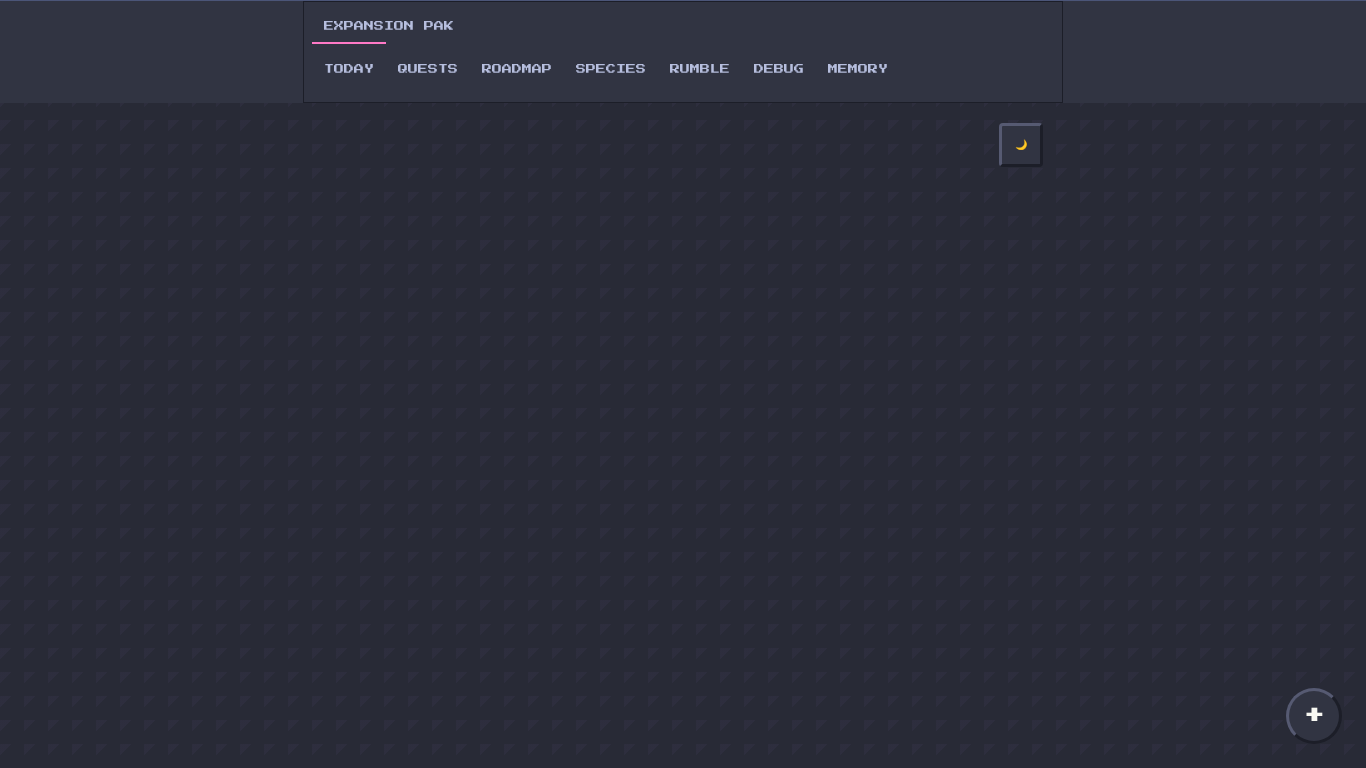
Test: Pak shell › navigates to Quests
Click the link "QUESTS": coordinates (428, 69) [398,64,458,74]
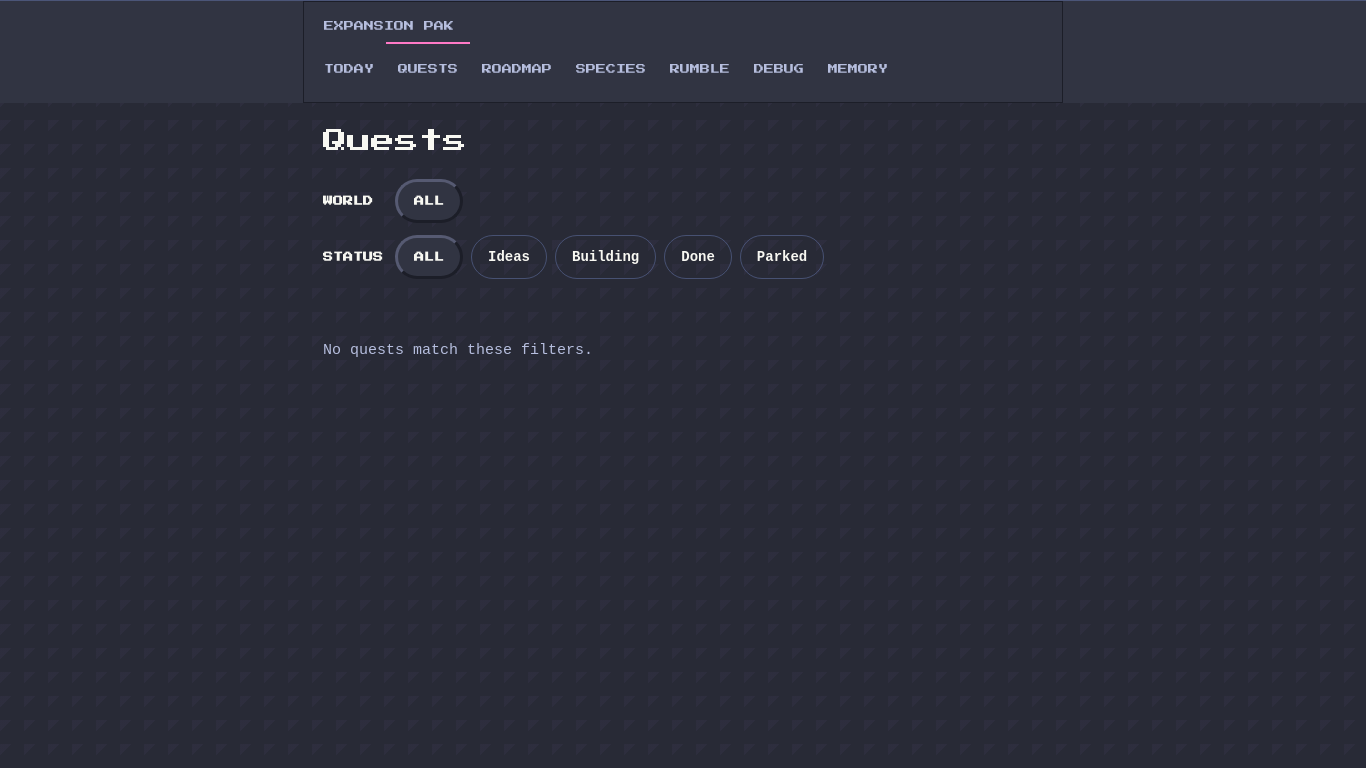
Check: the heading "Quests" is shown, box [323,129,467,153]
